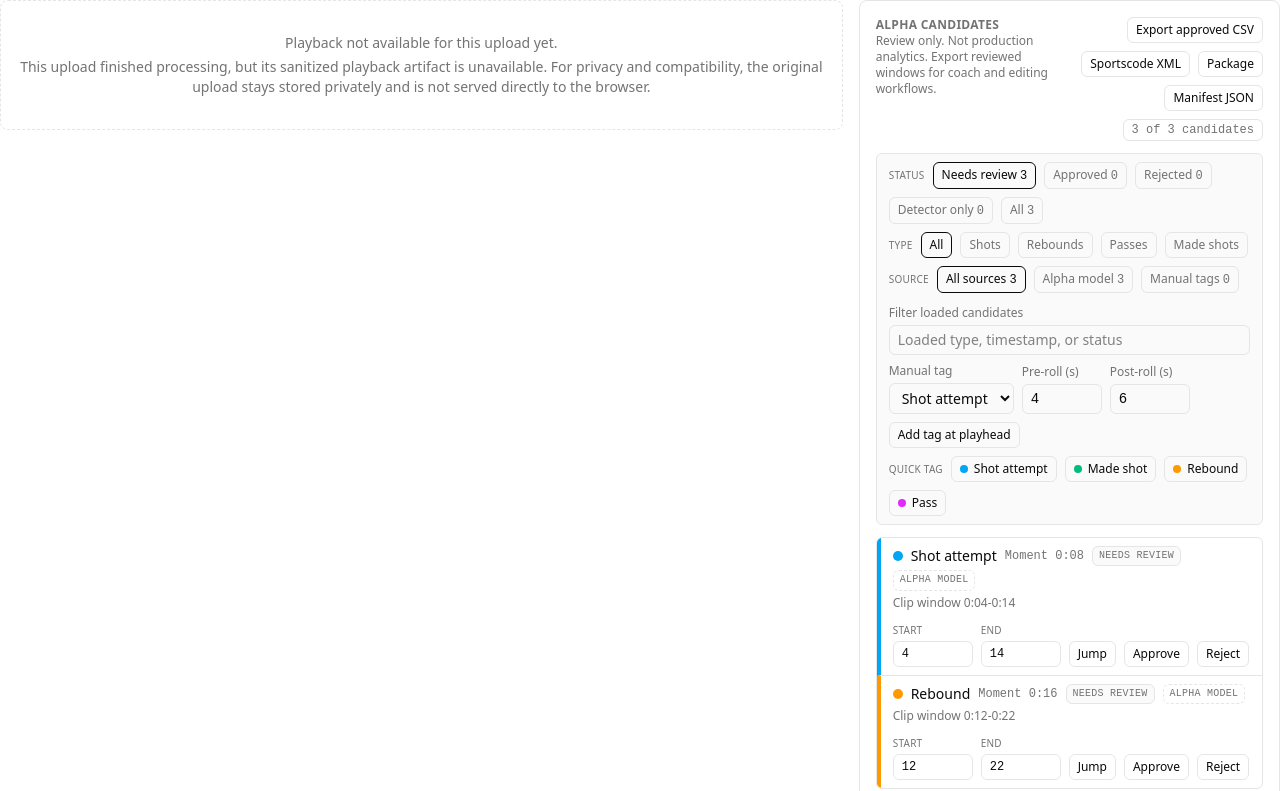
Test case: VideoPlaybackView › keeps pagination reachable when the loaded candidates do not match the filter
Expected: the number of list items with test id "candidate-row" is 2, [877,538,1262,676]; [877,676,1262,788]
Type "pass" into the search field with test id "candidate-search".
click(1069, 340); type("pass")  # box [889,325,1250,355]
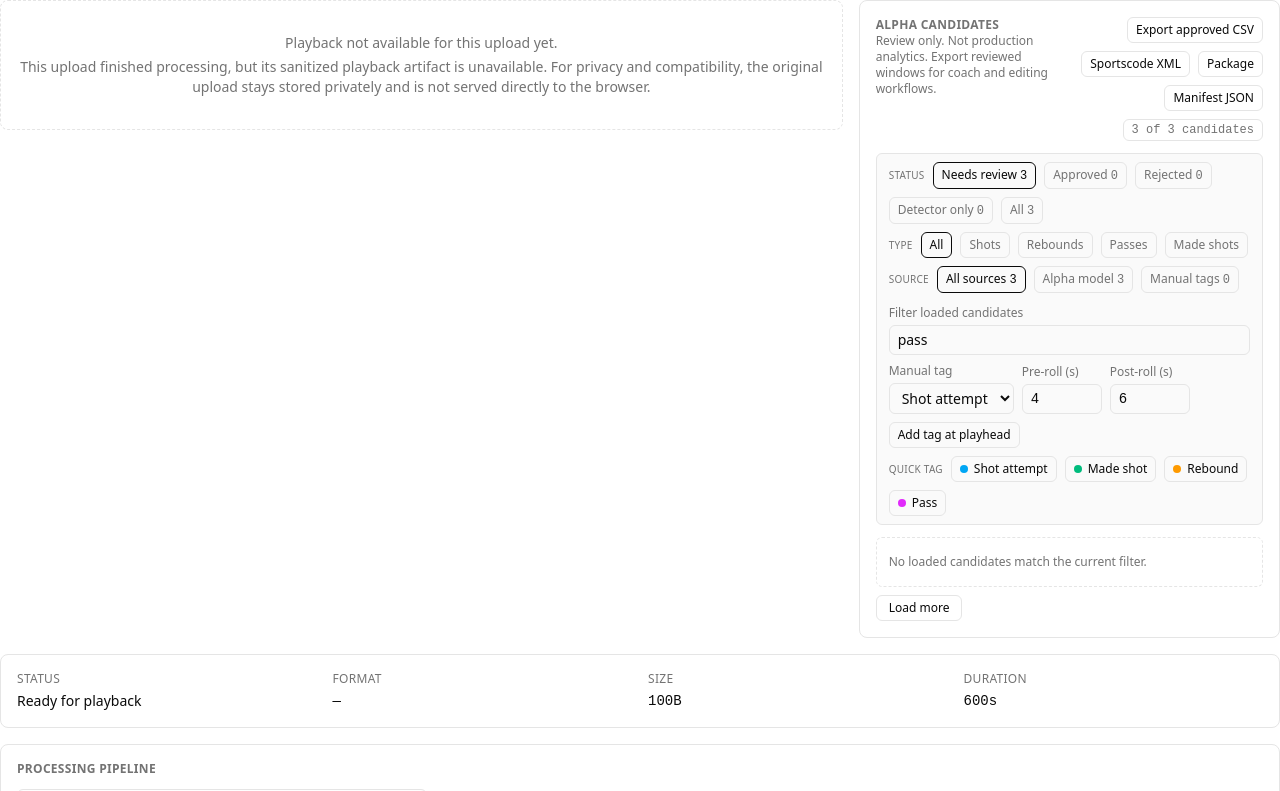
Result: the text "No loaded candidates match the current filter." is shown at [876,537,1263,587]
Click the button with test id "candidate-load-more".
click(919, 608)  # box [876,595,962,621]
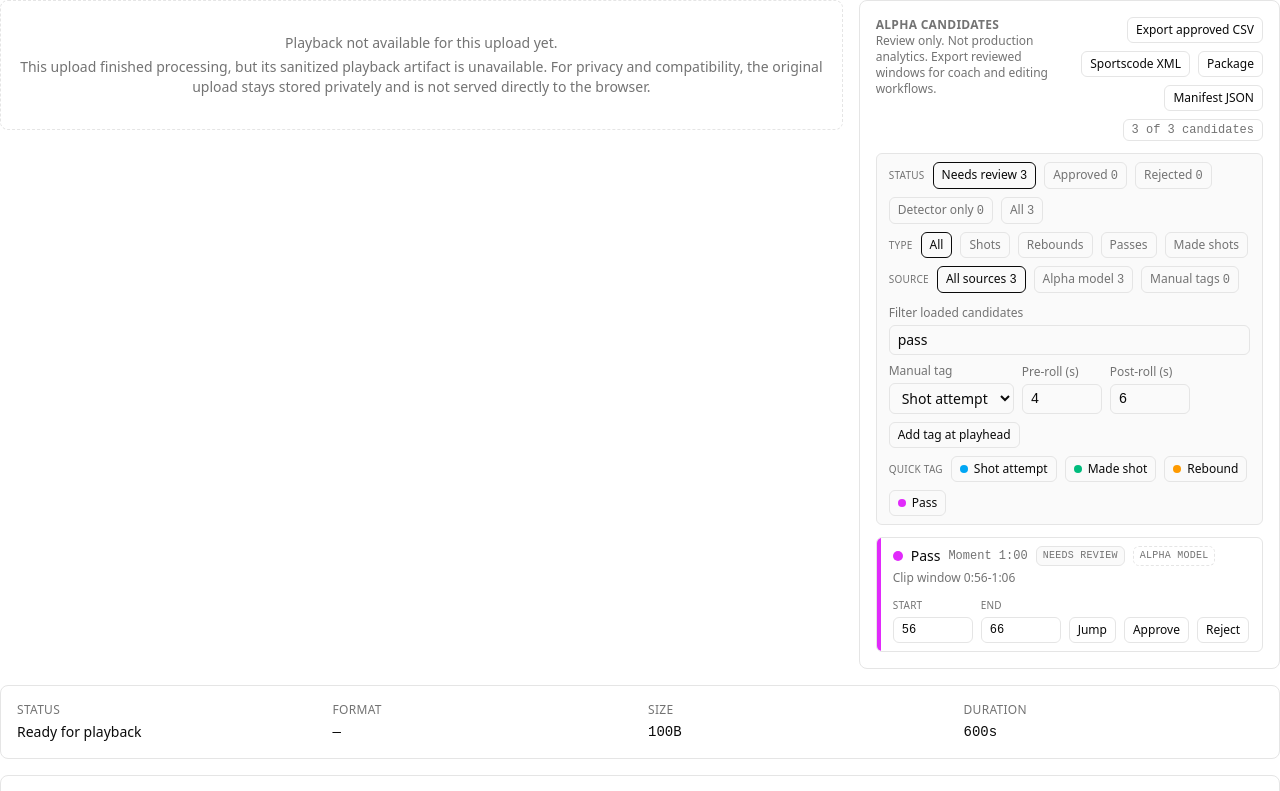
Result: the number of list items with test id "candidate-row" is 1 at [877,538,1262,651]
Result: the text "Pass" is shown at [911,546,940,566]
